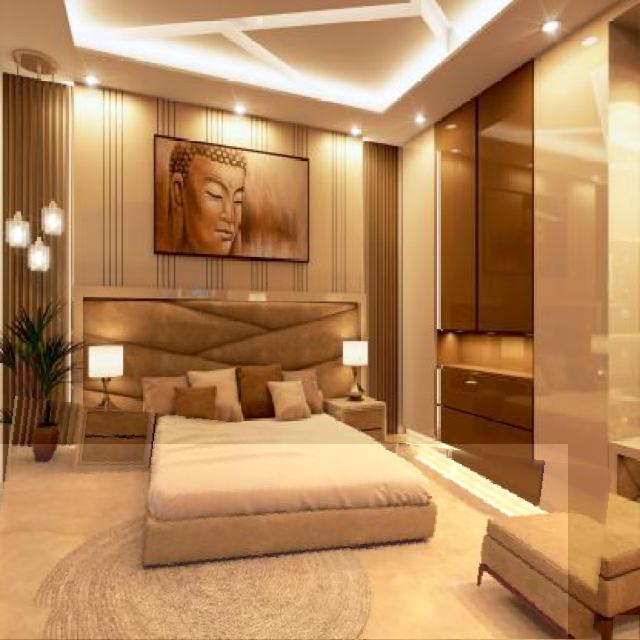floor: (0, 444, 568, 640), (614, 616, 640, 639)
